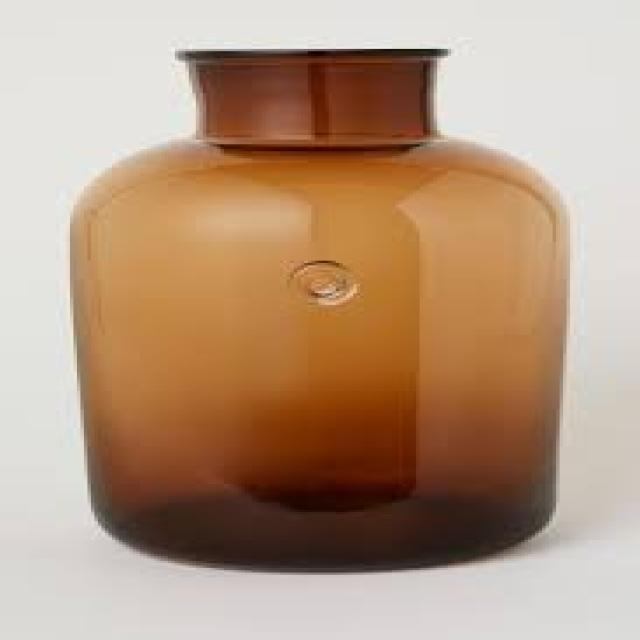glass: (70, 49, 563, 561)
